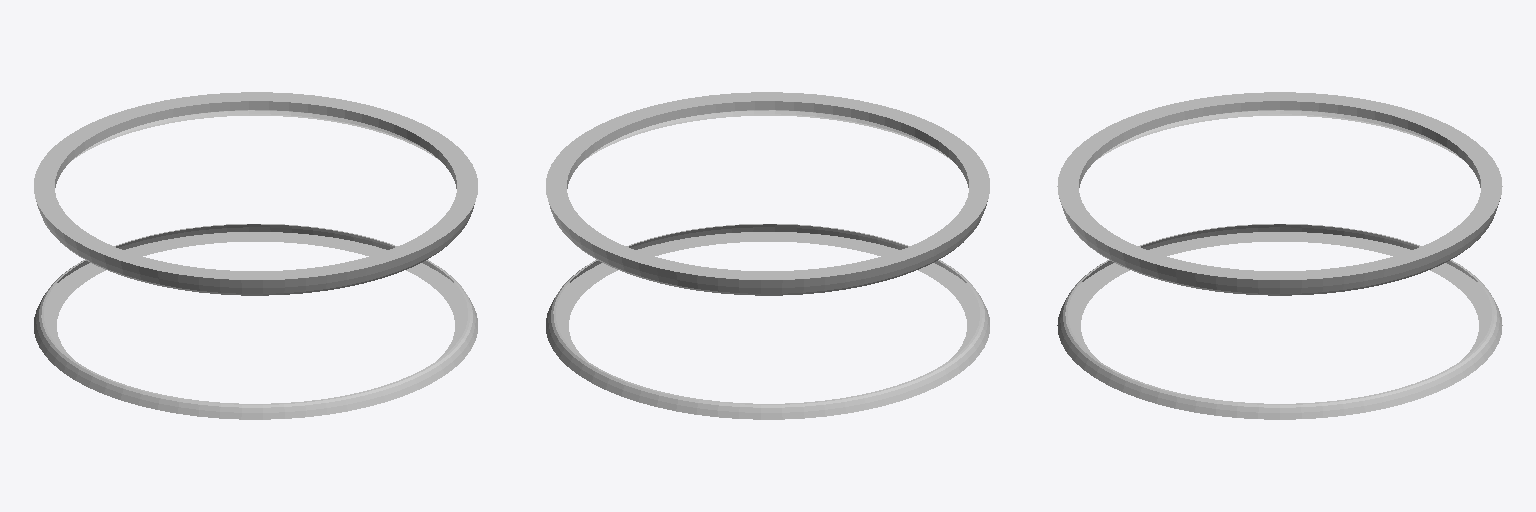
The model's file is drumsetV4_DrumRings002_Keyframe.obj.
The picture shows the model from 3 angles: view 1: azimuth 30°, elevation 25°; view 2: azimuth 150°, elevation 25°; view 3: azimuth 270°, elevation 25°; orthographic projection.
Parts seen in each view (by area): view 1: drumsetV4_DrumRings002_Cylinder.040; view 2: drumsetV4_DrumRings002_Cylinder.040; view 3: drumsetV4_DrumRings002_Cylinder.040.
Boxes of the visible parts, box(x1,y1,x2,y2) form: drumsetV4_DrumRings002_Cylinder.040: box(34, 92, 477, 419); drumsetV4_DrumRings002_Cylinder.040: box(546, 92, 989, 419); drumsetV4_DrumRings002_Cylinder.040: box(1057, 92, 1502, 419).
Bounding box in the file's own units: 1.59 × 0.5498 × 1.59.